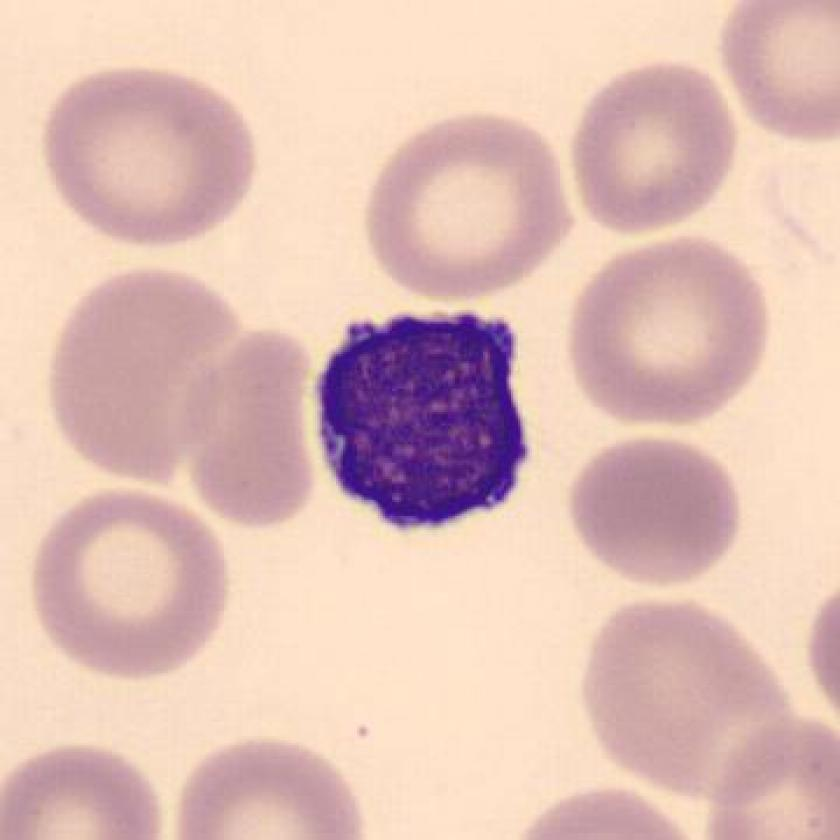lymphocyte: (302, 297, 554, 545)
